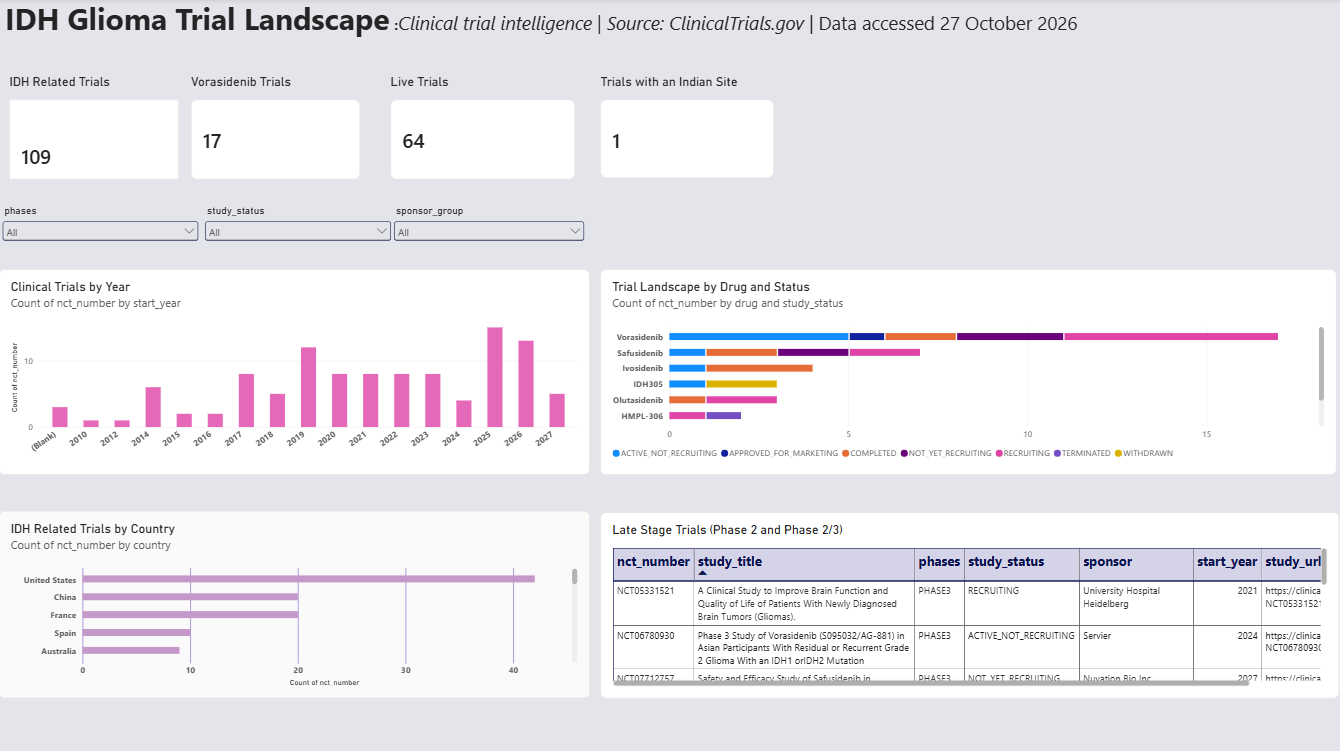

This screenshot's page, from the dashboard's own definition file:
{"tool":"powerbi","page":{"name":"Trial Landscape","canvas":[1920,1080],"ordinal":0},"visuals":[{"type":"clusteredColumnChart","title":"Clinical Trials by Year","fields":{"Category":["studies.start_year"],"Y":["Count(studies.nct_number)"]},"box":[0,388,846,294],"z":0},{"type":"barChart","title":"Trial Landscape by Drug and Status","fields":{"Category":["drugs.drug"],"Series":["studies.study_status"],"Y":["Count(studies.nct_number)"]},"box":[862,388,1054,294],"z":1000},{"type":"clusteredBarChart","title":"IDH Related Trials by Country","fields":{"Category":["sites.country"],"Y":["Count(sites.nct_number)"]},"box":[0,734,846,268],"z":2000},{"type":"tableEx","title":"Late Stage Trials (Phase 2 and Phase 2/3)","fields":{"Values":["studies.nct_number","studies.study_title","studies.phases","studies.study_status","studies.sponsor","studies.start_year","studies.study_url"]},"box":[862,736,1058,266],"z":3000},{"type":"slicer","fields":{"Values":["studies.phases"]},"box":[0,296,290,92],"z":4000},{"type":"slicer","fields":{"Values":["studies.study_status"]},"box":[290,296,276,92],"z":5000},{"type":"slicer","fields":{"Values":["studies.sponsor_group"]},"box":[560,296,282.3,92.7],"z":6000},{"type":"textbox","box":[16,872,406,88],"z":7000},{"type":"textbox","box":[8,0,1692,68],"z":8000},{"type":"cardVisual","title":"IDH Related Trials","fields":{"Data":["Count(studies.nct_number)"]},"box":[16,110,242,150],"z":9000},{"type":"cardVisual","title":"Vorasidenib Trials","fields":{"Data":["Count(studies.nct_number)"]},"box":[276,110,242,150],"z":10000},{"type":"cardVisual","title":"Live Trials","fields":{"Data":["Count(studies.nct_number)"]},"box":[560,110,264,150],"z":11001},{"type":"cardVisual","title":"Trials with an Indian Site","fields":{"Data":["Count(sites.nct_number)"]},"box":[862,110,248,148],"z":11002}]}

Visuals, with their boxes in screenshot pixels (x1, y1, x2, y2), scaled from the page's 1920x1080 canvas onto the 1340x751 screenshot:
"Clinical Trials by Year" clusteredColumnChart: box=[0, 270, 590, 474]
"Trial Landscape by Drug and Status" barChart: box=[602, 270, 1337, 474]
"IDH Related Trials by Country" clusteredBarChart: box=[0, 510, 590, 697]
"Late Stage Trials (Phase 2 and Phase 2/3)" tableEx: box=[602, 512, 1339, 697]
slicer - studies.phases: box=[0, 206, 202, 270]
slicer - studies.study_status: box=[202, 206, 395, 270]
slicer - studies.sponsor_group: box=[391, 206, 588, 270]
textbox: box=[11, 606, 295, 668]
textbox: box=[6, 0, 1186, 47]
"IDH Related Trials" cardVisual: box=[11, 76, 180, 181]
"Vorasidenib Trials" cardVisual: box=[193, 76, 362, 181]
"Live Trials" cardVisual: box=[391, 76, 575, 181]
"Trials with an Indian Site" cardVisual: box=[602, 76, 775, 179]
